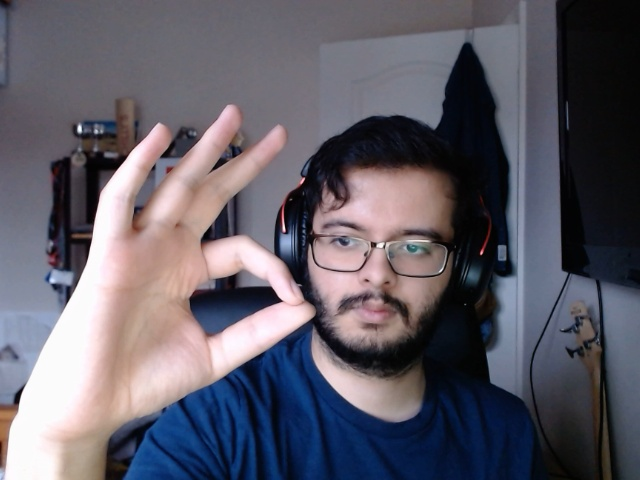Okay: (8, 98, 323, 447)
